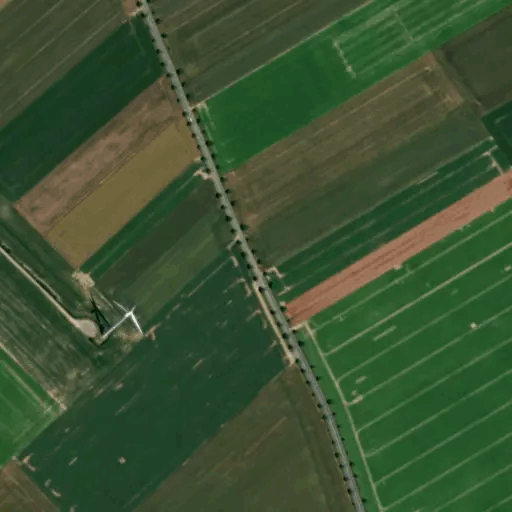wt: (82, 290, 151, 351)
